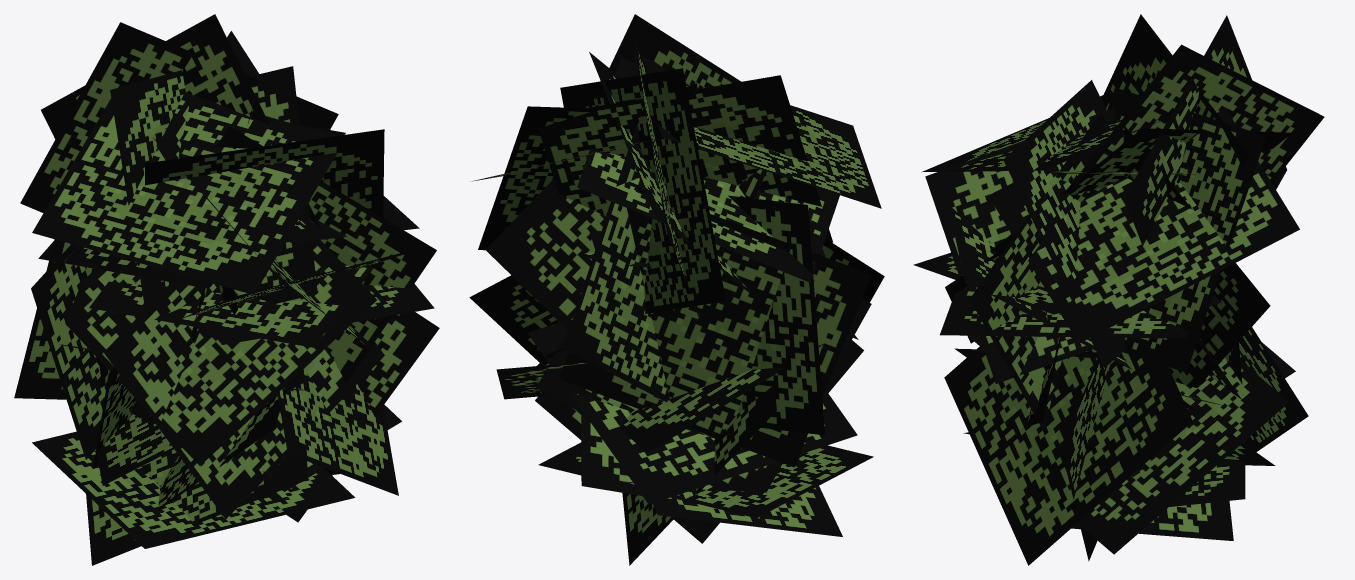
Rendered from BigBush2.fbx.
3 views of the same model, side by side, from view 1: azimuth 30°, elevation 25°; view 2: azimuth 150°, elevation 25°; view 3: azimuth 270°, elevation 25° (orthographic). The views are drawn at different scales.
Parts seen in each view (by area): view 1: BigBush2; view 2: BigBush2; view 3: BigBush2.
Boxes of the visible parts, x1,y1,x2,y2 form: BigBush2: [14, 14, 439, 565]; BigBush2: [469, 14, 884, 565]; BigBush2: [913, 14, 1324, 565].
Bounding box in the file's own units: 144 × 180 × 137.
